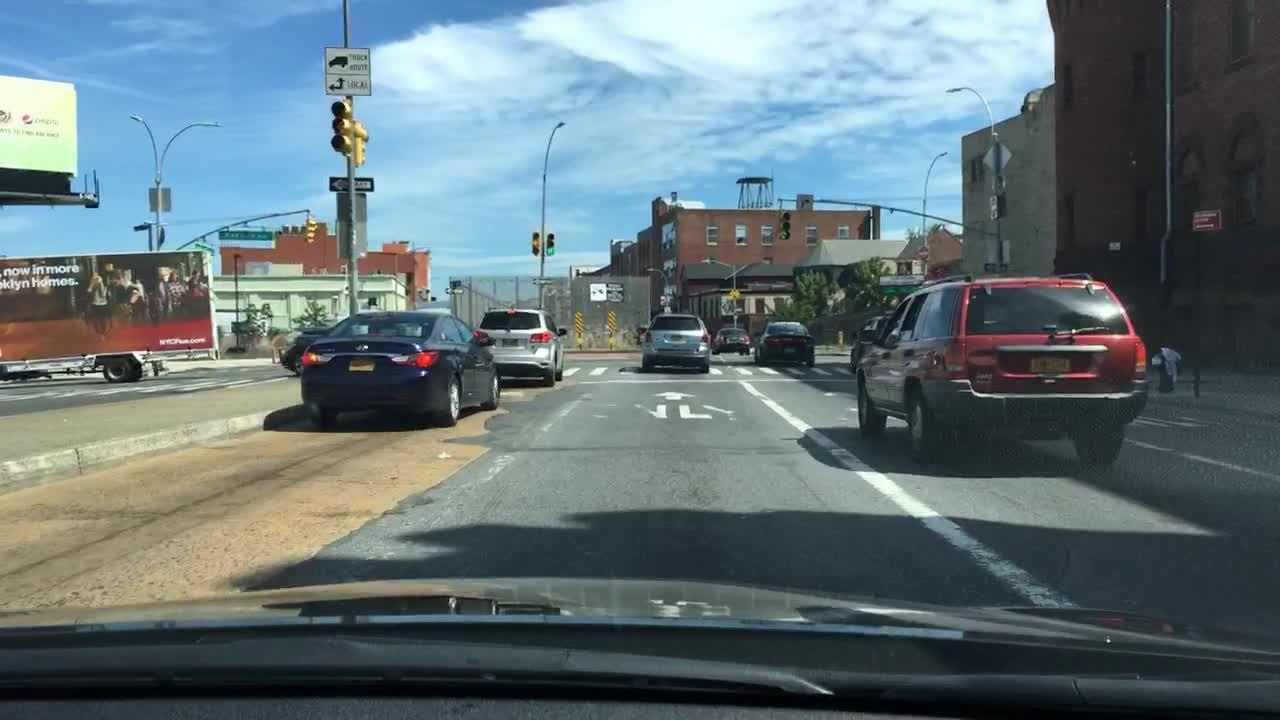Hyundai: (351, 341, 372, 354)
